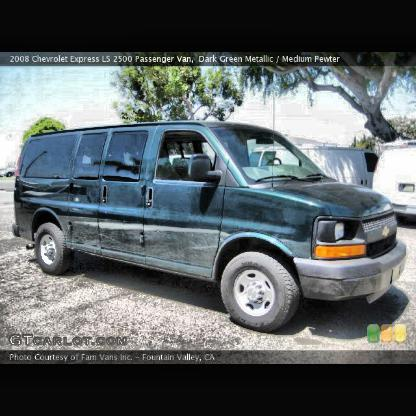Chevrolet Express Van 2007: (13, 119, 410, 334)
